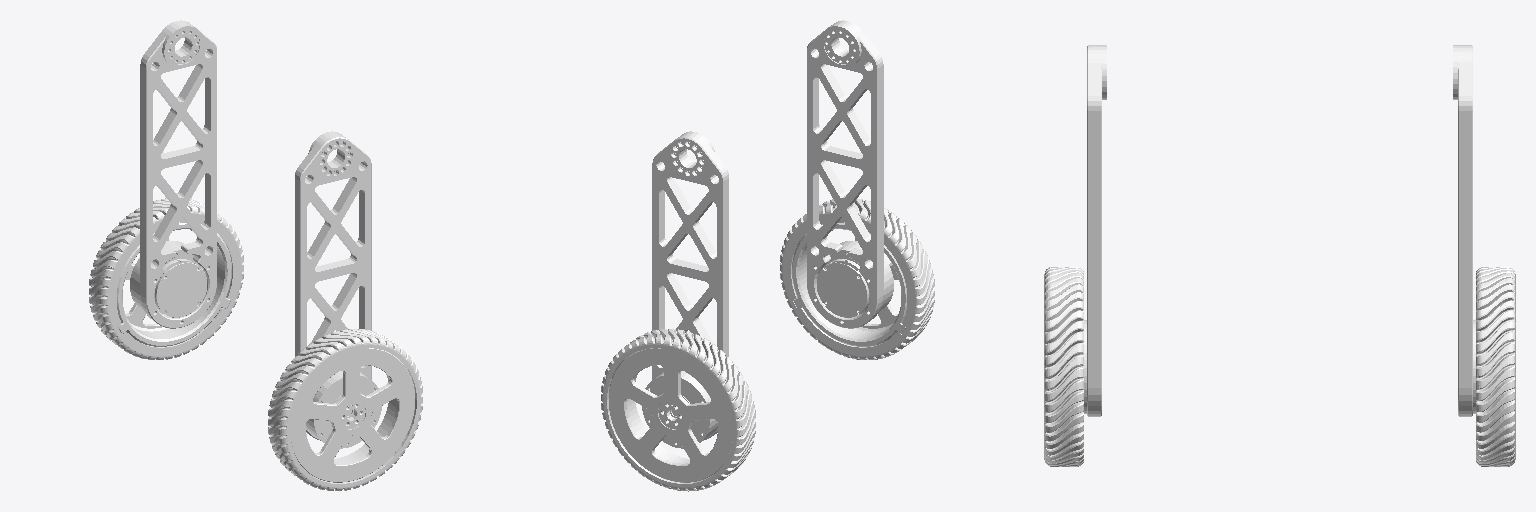
URDF robot description (x00_WBR_simplified_urdf):
<?xml version="1.0" encoding="utf-8"?>
<!-- This URDF was automatically created by SolidWorks to URDF Exporter! Originally created by [author] ([email redacted]) 
     Commit Version: 1.6.0-4-g7f85cfe  Build Version: 1.6.7995.38578
     For more information, please see http://wiki.ros.org/sw_urdf_exporter -->
<robot
  name="x00_WBR_simplified_urdf">
  <link
    name="base_link">
    <inertial>
      <origin
        xyz="0 0 0"
        rpy="0 0 0" />
      <mass
        value="3.694" />
      <inertia
        ixx="0.01775"
        ixy="-6.781E-05"
        ixz="-0.00038158"
        iyy="0.0145"
        iyz="-7.9E-05"
        izz="0.018793" />
    </inertial>
    <visual>
      <origin
        xyz="0 0 0"
        rpy="0 0 0" />
      <geometry>
        <mesh
          filename="meshes/base_link.STL" />
      </geometry>
      <material
        name="">
        <color
          rgba="1 1 1 1" />
      </material>
    </visual>
    <collision>
      <origin
        xyz="0 0 0"
        rpy="0 0 0" />
      <geometry>
        <mesh
          filename="meshes/base_link.STL" />
      </geometry>
    </collision>
  </link>
  <link
    name="TighR">
    <inertial>
      <origin
        xyz="0 0 0"
        rpy="0 0 0" />
      <mass
        value="0.852" />
      <inertia
        ixx="0.050417"
        ixy="-0.00081534"
        ixz="-1.2468E-05"
        iyy="0.00077874"
        iyz="0.0025429"
        izz="0.050689" />
    </inertial>
    <visual>
      <origin
        xyz="0 0 0"
        rpy="0 0 0" />
      <geometry>
        <mesh
          filename="meshes/TighR.STL" />
      </geometry>
      <material
        name="">
        <color
          rgba="1 1 1 1" />
      </material>
    </visual>
    <collision>
      <origin
        xyz="0 0 0"
        rpy="0 0 0" />
      <geometry>
        <mesh
          filename="meshes/TighR.STL" />
      </geometry>
    </collision>
  </link>
  <joint
    name="HipR"
    type="revolute">
    <origin
      xyz="0 -0.10326 -0.003"
      rpy="1.5708 0 0" />
    <parent
      link="base_link" />
    <child
      link="TighR" />
    <axis
      xyz="0 0 -1" />
    <limit
      lower="-3.1416"
      upper="3.1416"
      effort="100"
      velocity="1000" />
  </joint>
  <link
    name="ShankR">
    <inertial>
      <origin
        xyz="0 0 0"
        rpy="0 0 0" />
      <mass
        value="0.592" />
      <inertia
        ixx="0.028833"
        ixy="7.361E-06"
        ixz="-2.98E-07"
        iyy="0.00033282"
        iyz="0.00156"
        izz="0.028938" />
    </inertial>
    <visual>
      <origin
        xyz="0 0 0"
        rpy="0 0 0" />
      <geometry>
        <mesh
          filename="meshes/ShankR.STL" />
      </geometry>
      <material
        name="">
        <color
          rgba="1 1 1 1" />
      </material>
    </visual>
    <collision>
      <origin
        xyz="0 0 0"
        rpy="0 0 0" />
      <geometry>
        <mesh
          filename="meshes/ShankR.STL" />
      </geometry>
    </collision>
  </link>
  <joint
    name="KneeR"
    type="revolute">
    <origin
      xyz="0 -0.26 0.04376"
      rpy="0 0 0" />
    <parent
      link="TighR" />
    <child
      link="ShankR" />
    <axis
      xyz="0 0 1" />
    <limit
      lower="-3.1416"
      upper="3.1416"
      effort="100"
      velocity="1000" />
  </joint>
  <link
    name="WheelR">
    <inertial>
      <origin
        xyz="0 0 0"
        rpy="0 0 0" />
      <mass
        value="0.543" />
      <inertia
        ixx="0.0011434"
        ixy="0"
        ixz="0"
        iyy="0.0011434"
        iyz="-1E-09"
        izz="0.0021259" />
    </inertial>
    <visual>
      <origin
        xyz="0 0 0"
        rpy="0 0 0" />
      <geometry>
        <mesh
          filename="meshes/WheelR.STL" />
      </geometry>
      <material
        name="">
        <color
          rgba="1 1 1 1" />
      </material>
    </visual>
    <collision>
      <origin
        xyz="0 0 0"
        rpy="0 0 0" />
      <geometry>
        <mesh
          filename="meshes/WheelR.STL" />
      </geometry>
    </collision>
  </link>
  <joint
    name="HubR"
    type="revolute">
    <origin
      xyz="0 -0.26 0.03525"
      rpy="0 0 0" />
    <parent
      link="ShankR" />
    <child
      link="WheelR" />
    <axis
      xyz="0 0 -1" />
    <limit
      effort="100"
      velocity="1000" />
  </joint>
  <link
    name="TighL">
    <inertial>
      <origin
        xyz="0 0 0"
        rpy="0 0 0" />
      <mass
        value="3.694" />
      <inertia
        ixx="0.050417"
        ixy="0.0008119"
        ixz="1.2595E-05"
        iyy="0.00077874"
        iyz="0.0025429"
        izz="0.050689" />
    </inertial>
    <visual>
      <origin
        xyz="0 0 0"
        rpy="0 0 0" />
      <geometry>
        <mesh
          filename="meshes/TighL.STL" />
      </geometry>
      <material
        name="">
        <color
          rgba="1 1 1 1" />
      </material>
    </visual>
    <collision>
      <origin
        xyz="0 0 0"
        rpy="0 0 0" />
      <geometry>
        <mesh
          filename="meshes/TighL.STL" />
      </geometry>
    </collision>
  </link>
  <joint
    name="HipL"
    type="revolute">
    <origin
      xyz="0 0.10326 -0.003"
      rpy="1.5708 0 3.1416" />
    <parent
      link="base_link" />
    <child
      link="TighL" />
    <axis
      xyz="0 0 -1" />
    <limit
      lower="-3.1416"
      upper="3.1416"
      effort="100"
      velocity="1000" />
  </joint>
  <link
    name="ShankL">
    <inertial>
      <origin
        xyz="0 0 0"
        rpy="0 0 0" />
      <mass
        value="0.592" />
      <inertia
        ixx="0.028833"
        ixy="7.361E-06"
        ixz="-2.98E-07"
        iyy="0.00033282"
        iyz="0.00156"
        izz="0.028938" />
    </inertial>
    <visual>
      <origin
        xyz="0 0 0"
        rpy="0 0 0" />
      <geometry>
        <mesh
          filename="meshes/ShankL.STL" />
      </geometry>
      <material
        name="">
        <color
          rgba="1 1 1 1" />
      </material>
    </visual>
    <collision>
      <origin
        xyz="0 0 0"
        rpy="0 0 0" />
      <geometry>
        <mesh
          filename="meshes/ShankL.STL" />
      </geometry>
    </collision>
  </link>
  <joint
    name="KneeL"
    type="revolute">
    <origin
      xyz="0 -0.26 0.04376"
      rpy="0 0 0" />
    <parent
      link="TighL" />
    <child
      link="ShankL" />
    <axis
      xyz="0 0 1" />
    <limit
      lower="-3.1416"
      upper="3.1416"
      effort="100"
      velocity="1000" />
  </joint>
  <link
    name="WheelL">
    <inertial>
      <origin
        xyz="0 0 0"
        rpy="0 0 0" />
      <mass
        value="0.543" />
      <inertia
        ixx="0.0011434"
        ixy="0"
        ixz="0"
        iyy="0.0011434"
        iyz="-1E-09"
        izz="0.0021259" />
    </inertial>
    <visual>
      <origin
        xyz="0 0 0"
        rpy="0 0 0" />
      <geometry>
        <mesh
          filename="meshes/WheelL.STL" />
      </geometry>
      <material
        name="">
        <color
          rgba="1 1 1 1" />
      </material>
    </visual>
    <collision>
      <origin
        xyz="0 0 0"
        rpy="0 0 0" />
      <geometry>
        <mesh
          filename="meshes/WheelL.STL" />
      </geometry>
    </collision>
  </link>
  <joint
    name="HubL"
    type="revolute">
    <origin
      xyz="0 -0.26 0.03525"
      rpy="0 0 0" />
    <parent
      link="ShankL" />
    <child
      link="WheelL" />
    <axis
      xyz="0 0 -1" />
    <limit
      effort="100"
      velocity="1000" />
  </joint>
</robot>

--- Render facts (derived) ---
Views: 3 orthographic renders of the robot side by side, from view 1: azimuth 30°, elevation 25°; view 2: azimuth 150°, elevation 25°; view 3: azimuth 270°, elevation 25°.
Robot: x00_WBR_simplified_urdf — 7 links, 6 joints (6 revolute); root link base_link; default pose: every joint at zero.
Visible links, largest first — view 1: ShankL, WheelR, ShankR, WheelL; view 2: ShankR, WheelL, ShankL, WheelR; view 3: WheelR, WheelL, ShankR, ShankL.
Link boxes in pixels (box(x1,y1,x2,y2)): ShankL: box(130, 20, 216, 328); WheelR: box(268, 329, 422, 490); ShankR: box(295, 131, 381, 448); WheelL: box(89, 198, 243, 359); ShankR: box(807, 20, 893, 328); WheelL: box(601, 329, 755, 491); ShankL: box(642, 131, 728, 448); WheelR: box(780, 198, 934, 359); WheelR: box(1044, 267, 1083, 466); WheelL: box(1476, 267, 1515, 466); ShankR: box(1084, 45, 1106, 416); ShankL: box(1453, 45, 1475, 416).
Bounding box of the posed robot: 0.16 × 0.377 × 0.362 m (x, y, z).
Meshes: 7 distinct files referenced, 4 mesh visuals loaded (4 binary STL); not drawn: 3 (reference not matched to a file when rendering).